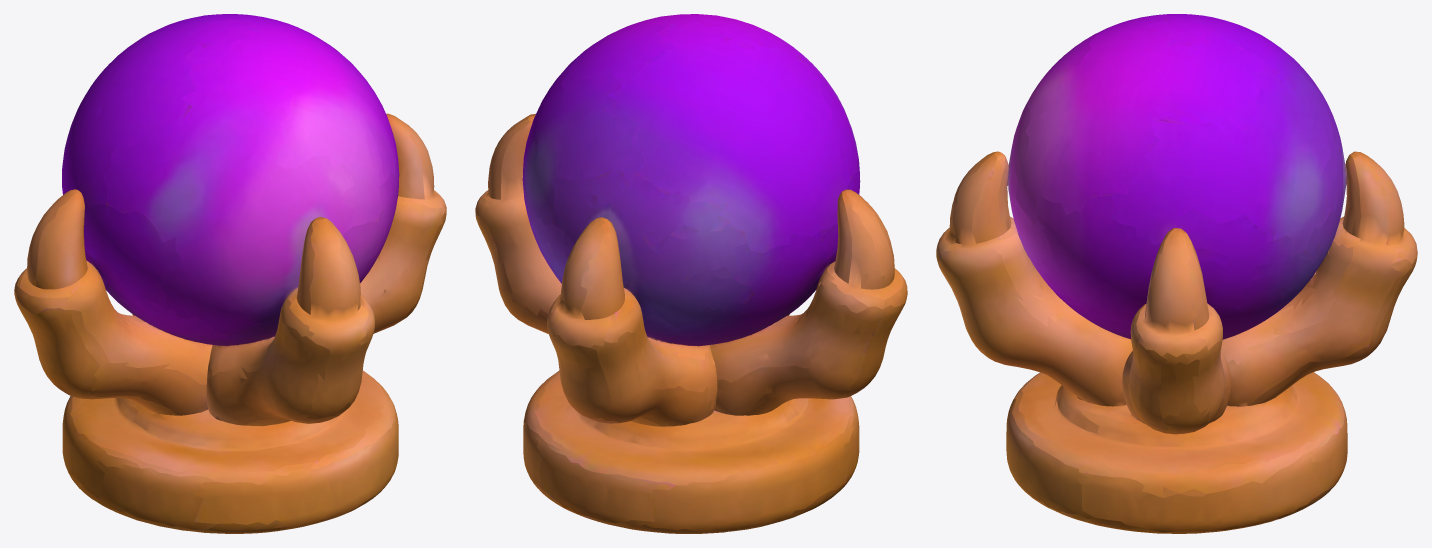
The model's file is x-crystalball.glb.
3 renders of one model, left to right at view 1: azimuth 30°, elevation 25°; view 2: azimuth 150°, elevation 25°; view 3: azimuth 270°, elevation 25°, orthographic.
Parts seen in each view (by area): view 1: geometry_0; view 2: geometry_0; view 3: geometry_0.
Part boxes in pixels (x1,y1,x2,y2): geometry_0: [14, 14, 446, 533]; geometry_0: [475, 14, 907, 533]; geometry_0: [936, 14, 1417, 533].
Size of the model in its own units: 0.1498 by 0.15 by 0.1492.
Materials: 1 (1 with a texture image).
